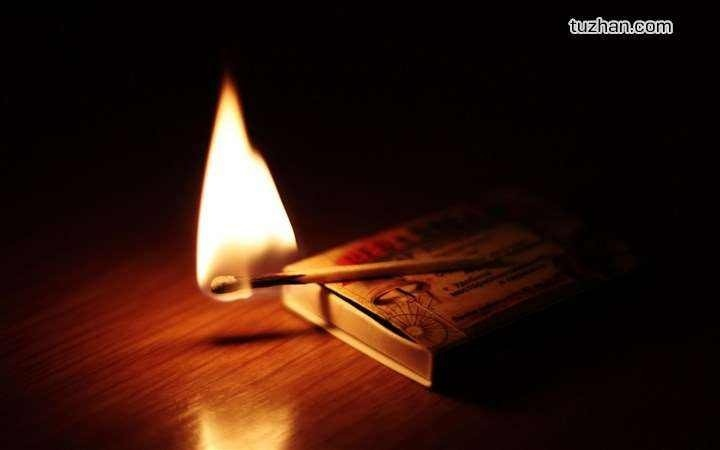fire: (192, 76, 297, 294)
